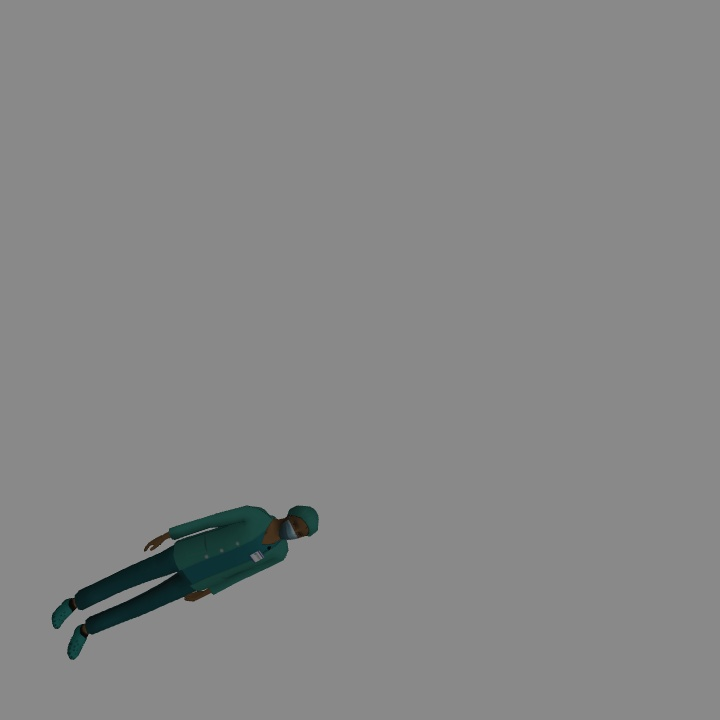victim: (57, 504, 317, 661)
